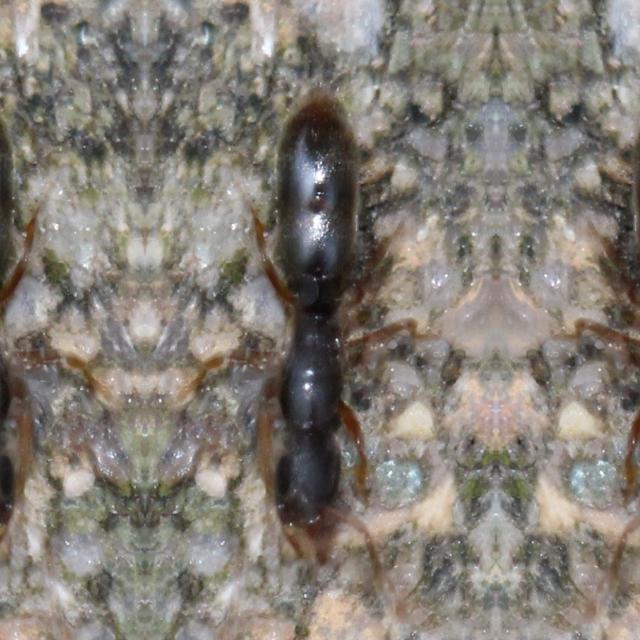Ponera: (203, 5, 437, 572), (552, 4, 640, 572), (0, 4, 84, 571)
